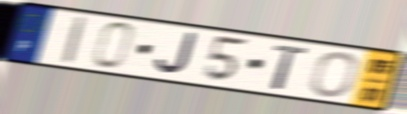0: (90, 20, 140, 71)
5: (200, 33, 251, 86)
I: (60, 15, 89, 67)
J: (153, 31, 199, 78)
O: (307, 51, 361, 99)
T: (270, 42, 310, 92)
